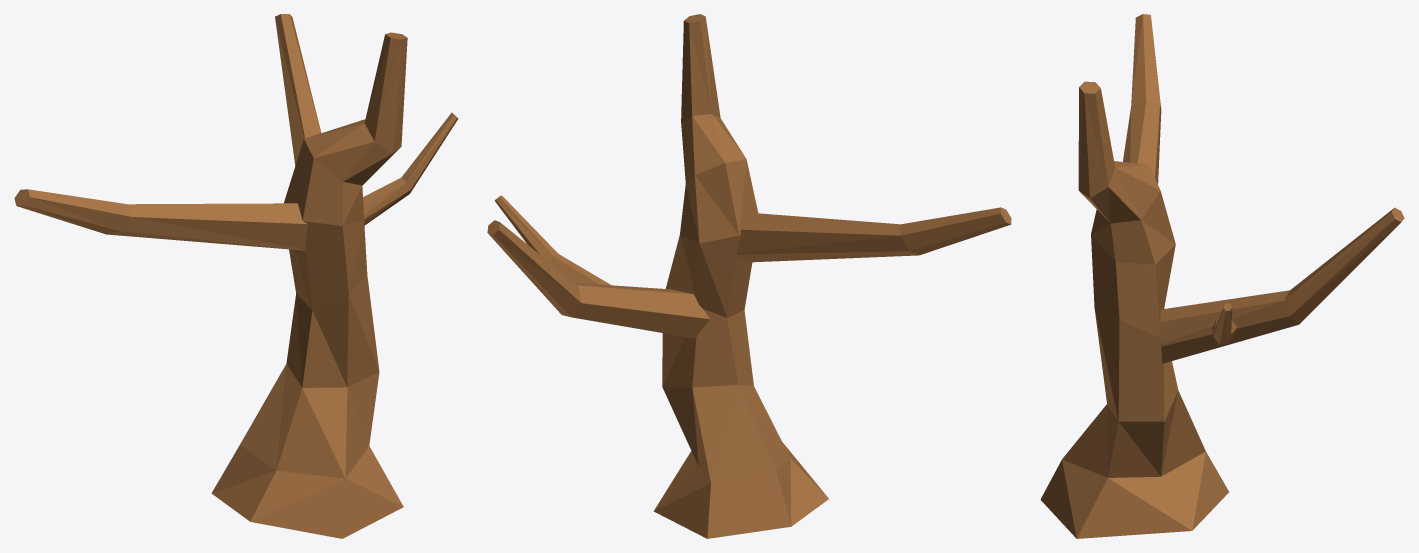
File: tree_dead3.fbx
3 renders of one model, left to right at view 1: azimuth 30°, elevation 25°; view 2: azimuth 150°, elevation 25°; view 3: azimuth 270°, elevation 25°, orthographic. The views are drawn at different scales.
Visible parts, largest first — view 1: tree_dead3; view 2: tree_dead3; view 3: tree_dead3.
Boxes of the visible parts, box(x1,y1,x2,y2) form: tree_dead3: box(14, 14, 458, 538); tree_dead3: box(487, 14, 1011, 538); tree_dead3: box(1040, 14, 1404, 538).
Size of the model in its own units: 2.26 by 2.09 by 1.52.
